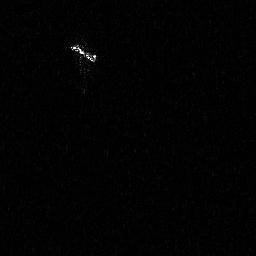ship: (68, 42, 97, 64)
